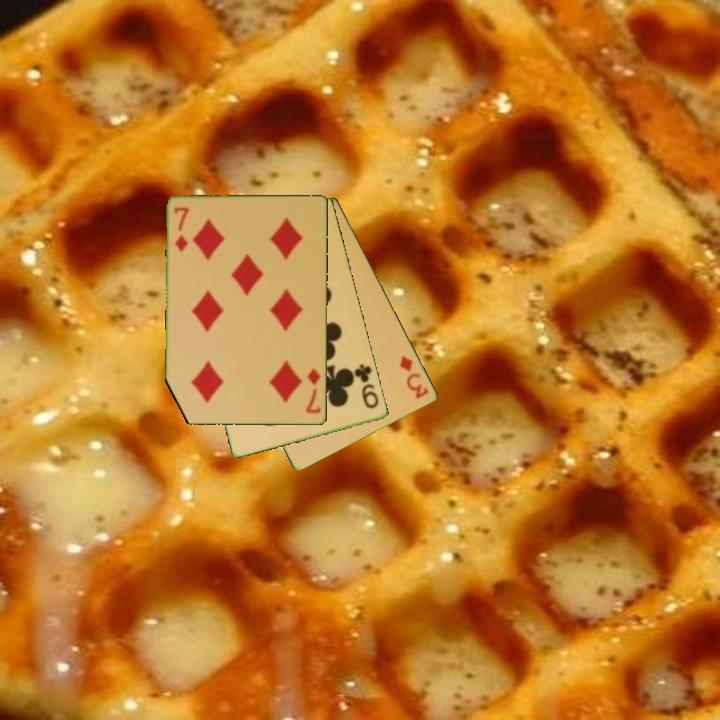3d: (396, 352, 432, 402)
7d: (303, 365, 324, 416), (171, 204, 192, 255)
9c: (351, 361, 382, 412)
